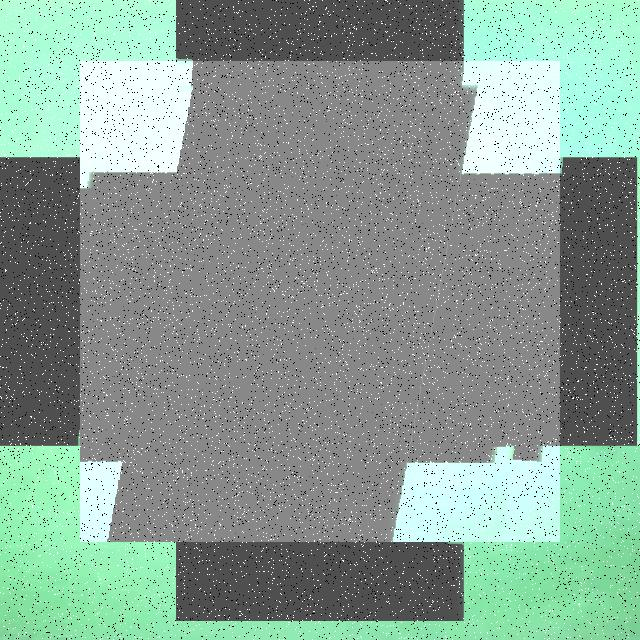lima puluh ribu rupiah: (80, 61, 560, 542)
